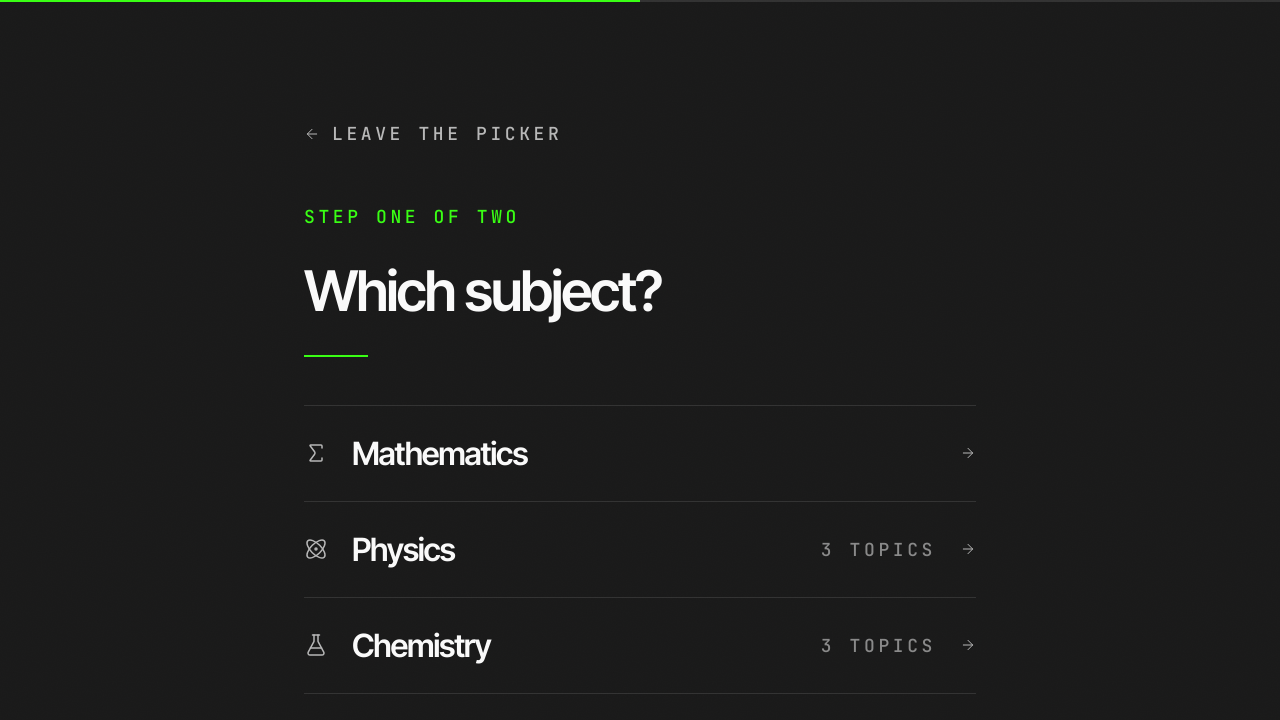
Mathematics picker entry › fetches live units only after Mathematics and links every unit to the new path
The width and height of the screenshot is (1280, 720).
Click the button "Mathematics" at point(440, 453), box [304,406,976,502]
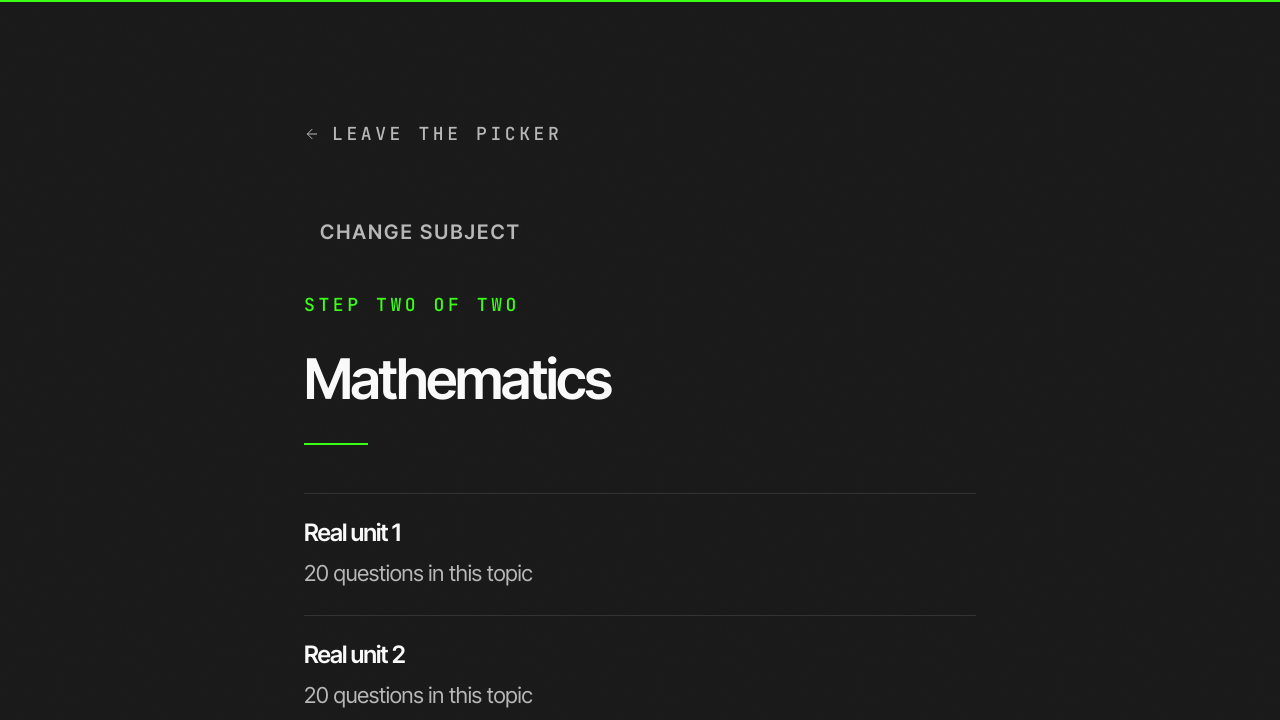
Expected: the link with aria-label "Real unit 1, 20 questions in this topic" is shown, [304,494,976,616]
